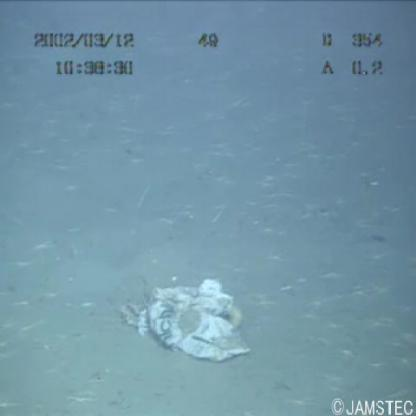Rác: (102, 270, 266, 368)
